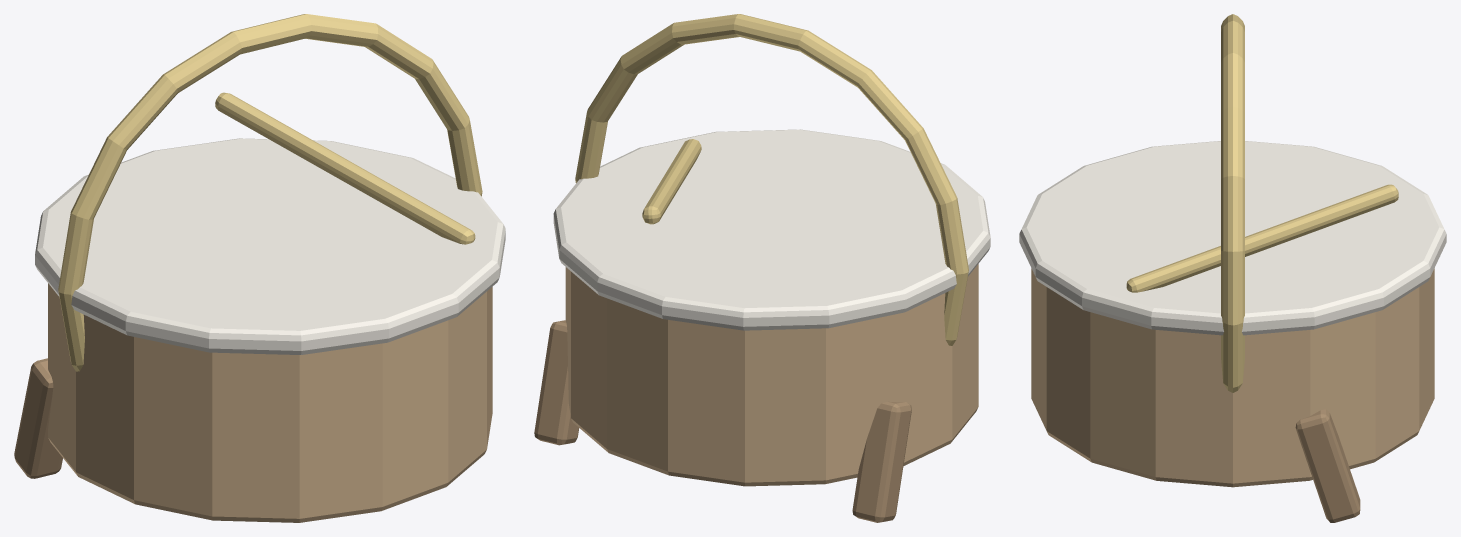
Rendered from turret_drum.glb.
3 renders of one model, left to right at view 1: azimuth 30°, elevation 25°; view 2: azimuth 150°, elevation 25°; view 3: azimuth 270°, elevation 25°, orthographic. The views are drawn at different scales.
Visible parts, largest first — view 1: turret_drum; view 2: turret_drum; view 3: turret_drum.
Part boxes in pixels (left/top/right/bottom): turret_drum: left=14, top=14, right=505, bottom=522; turret_drum: left=534, top=14, right=990, bottom=522; turret_drum: left=1019, top=14, right=1446, bottom=522.
Bounding box in the file's own units: 0.74 × 0.7552 × 0.72.
